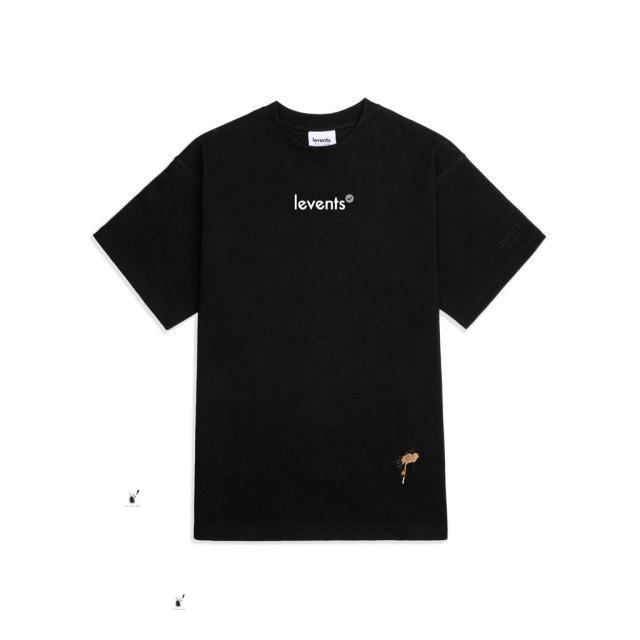stain: (393, 441, 424, 487)
